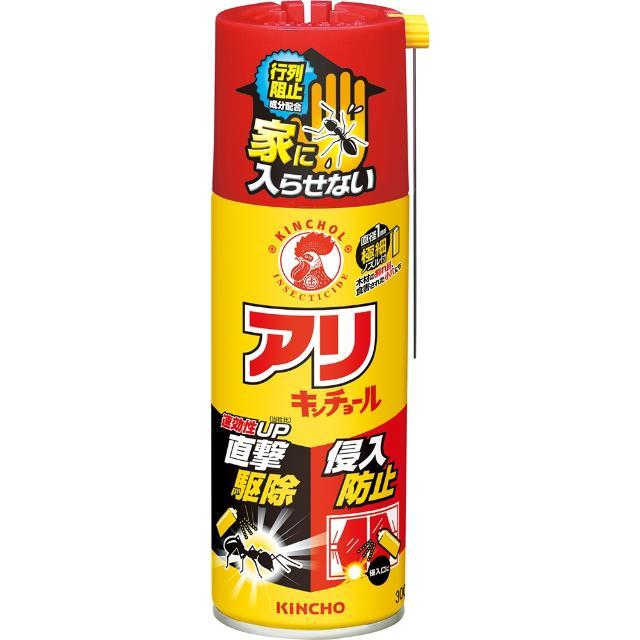chemical_spray_can: (212, 1, 429, 640)
